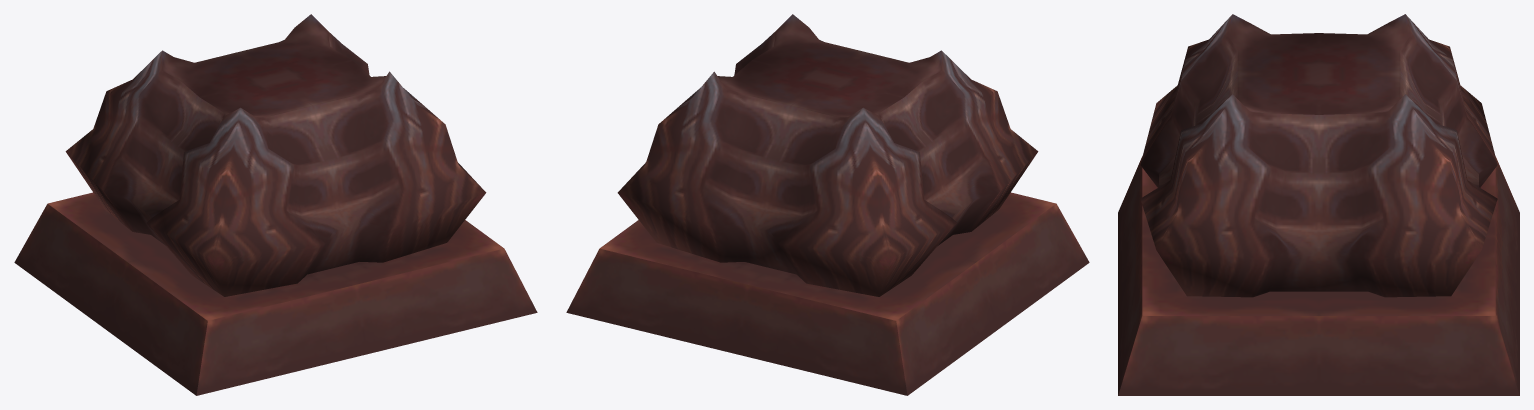
File: PigMonster03.FBX
The picture shows the model from 3 angles, left to right: view 1: azimuth 30°, elevation 25°; view 2: azimuth 150°, elevation 25°; view 3: azimuth 270°, elevation 25°; orthographic projection. The views are drawn at different scales.
Visible parts, largest first — view 1: PigMonster03; view 2: PigMonster03; view 3: PigMonster03.
Boxes of the visible parts, x1,y1,x2,y2 form: PigMonster03: (14,14,537,395); PigMonster03: (566,14,1089,395); PigMonster03: (1118,14,1519,395).
Size of the model in its own units: 142 by 132 by 90.44.
